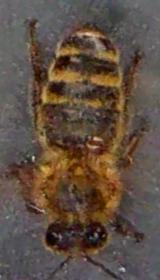varroa_mite: (74, 129, 112, 158)
